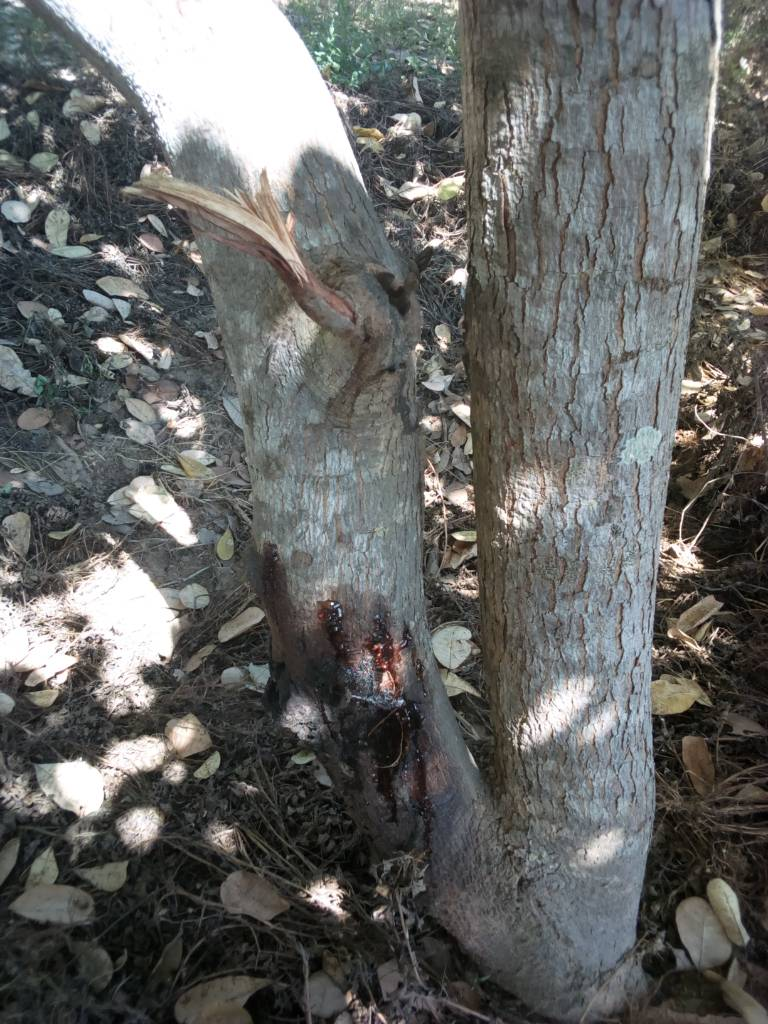Gommose: (257, 539, 475, 832)
